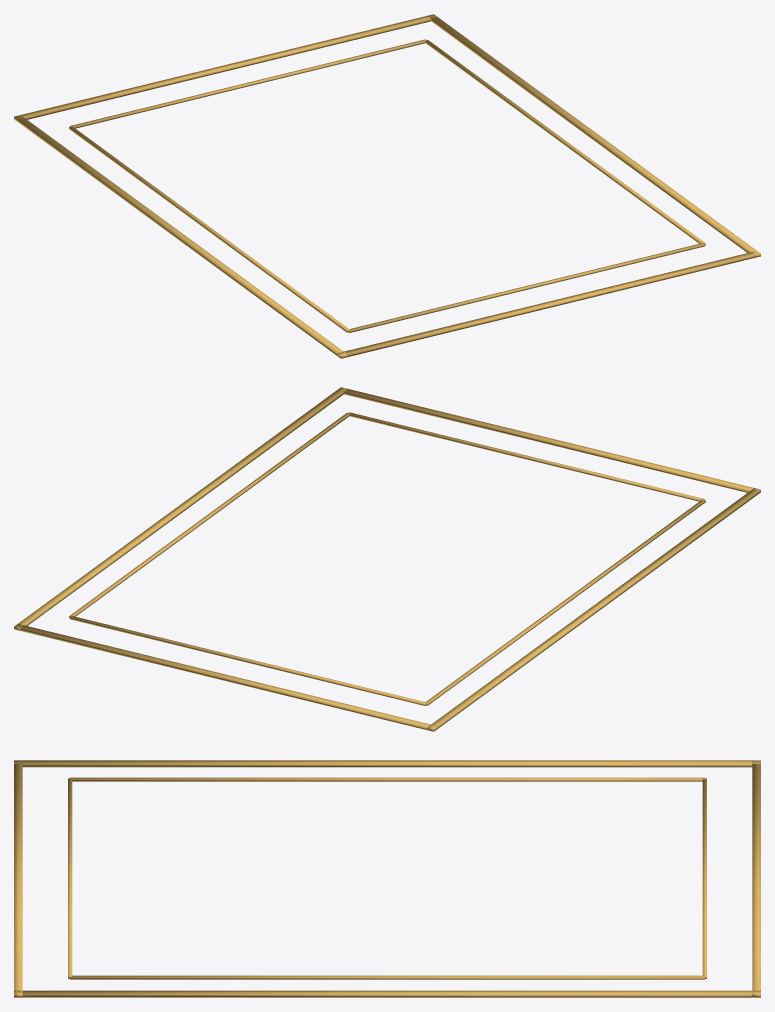
File: KRM_M32_P5MODC_gilt_frames.fbx
3 views of the same model, one above another, from view 1: azimuth 30°, elevation 25°; view 2: azimuth 150°, elevation 25°; view 3: azimuth 270°, elevation 25° (orthographic). The views are drawn at different scales.
Visible parts, largest first — view 1: KRM_M32_P5MODC_gilt_frames; view 2: KRM_M32_P5MODC_gilt_frames; view 3: KRM_M32_P5MODC_gilt_frames.
Boxes of the visible parts, x1=… form: KRM_M32_P5MODC_gilt_frames: x1=14, y1=14, x2=760, y2=358; KRM_M32_P5MODC_gilt_frames: x1=14, y1=387, x2=760, y2=731; KRM_M32_P5MODC_gilt_frames: x1=14, y1=760, x2=760, y2=997.
Bounding box in the file's own units: 315 × 2 × 425.
Materials: 1 (1 with a texture image).
